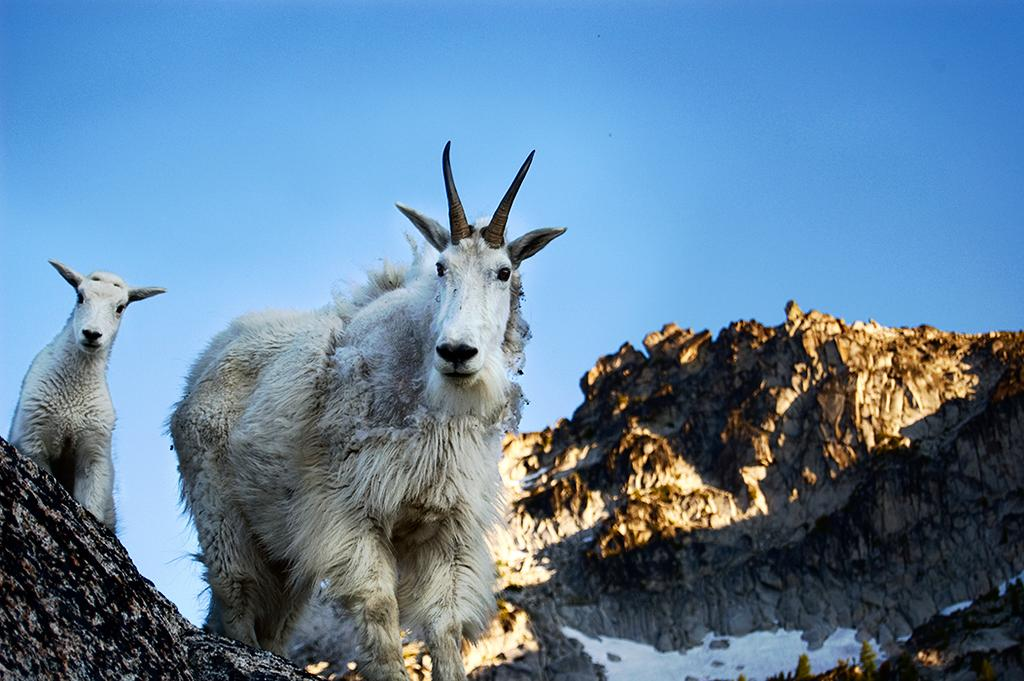Sheep: (169, 132, 561, 681), (8, 260, 166, 537)
